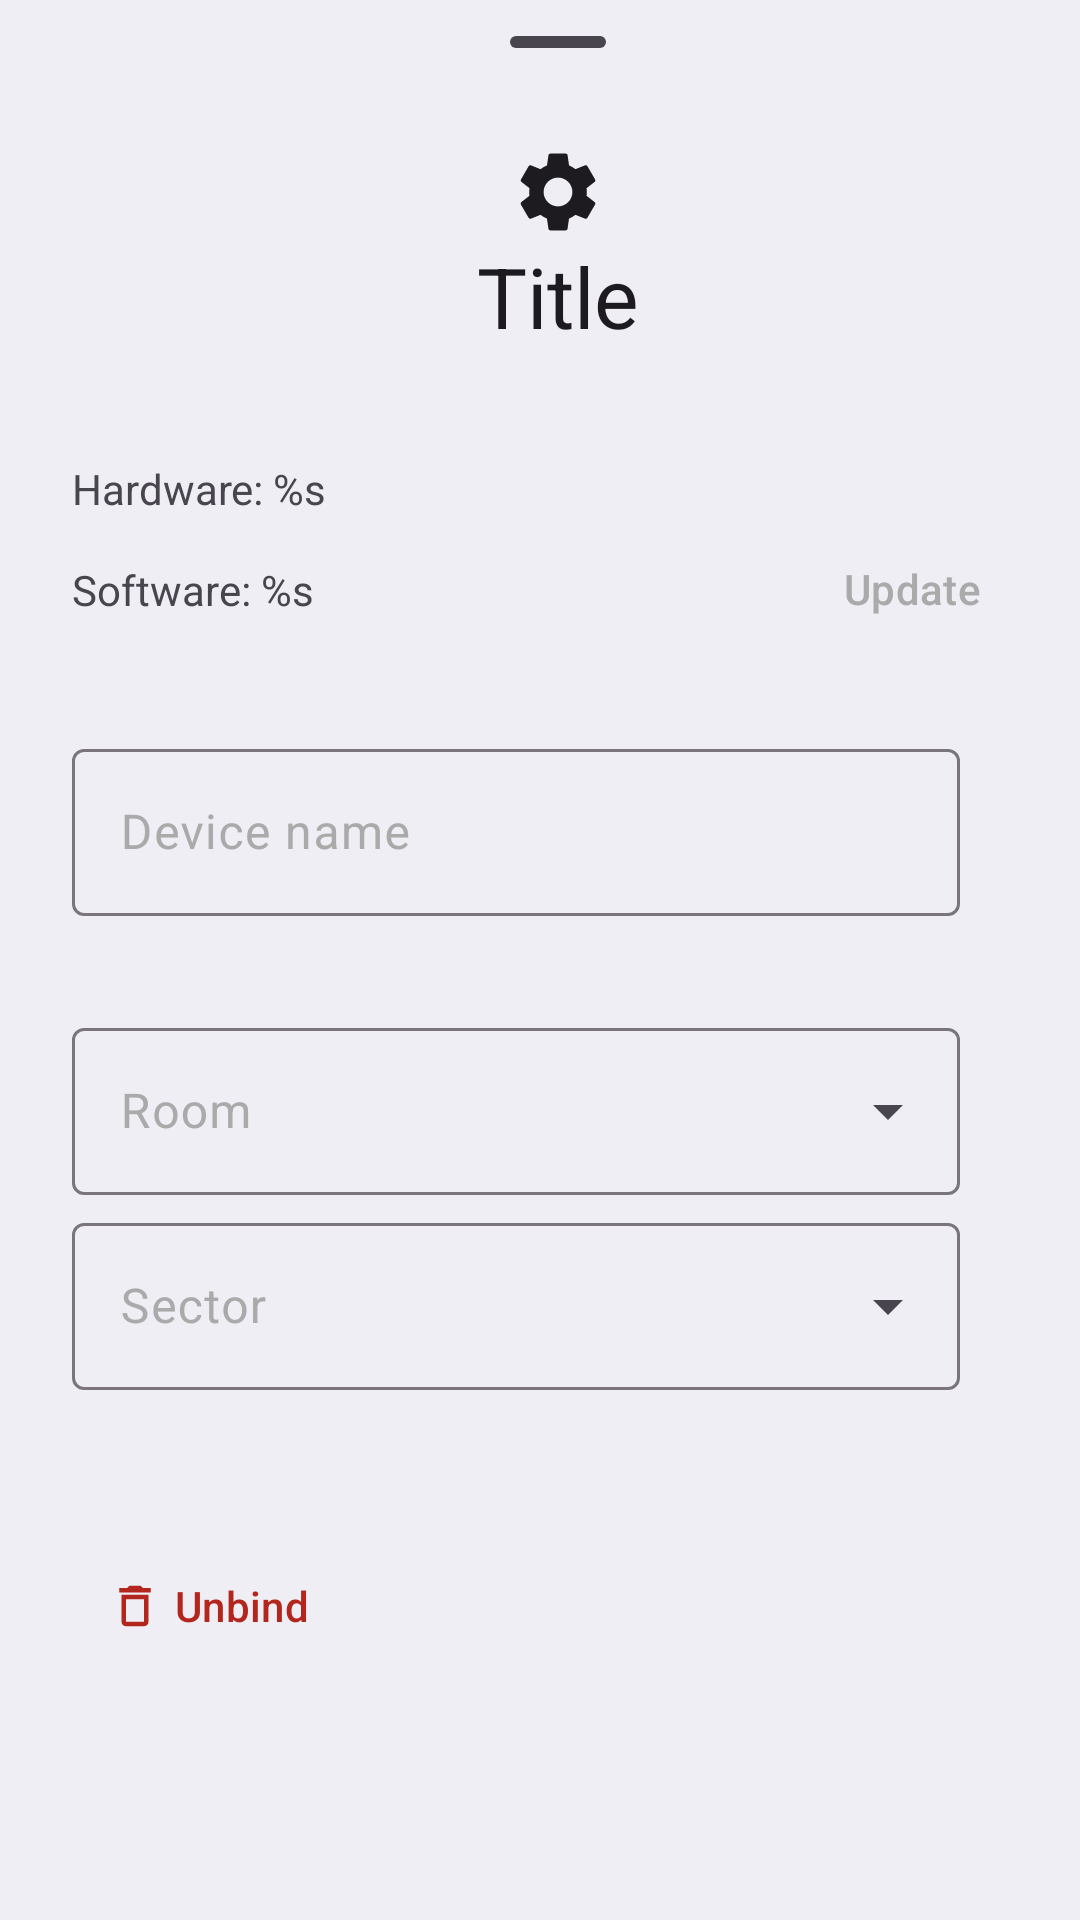

Icons on this 1080 x 1920 Android screen, each with its box as (x1, y1, x2, y2):
settings: (520, 153, 596, 231)
